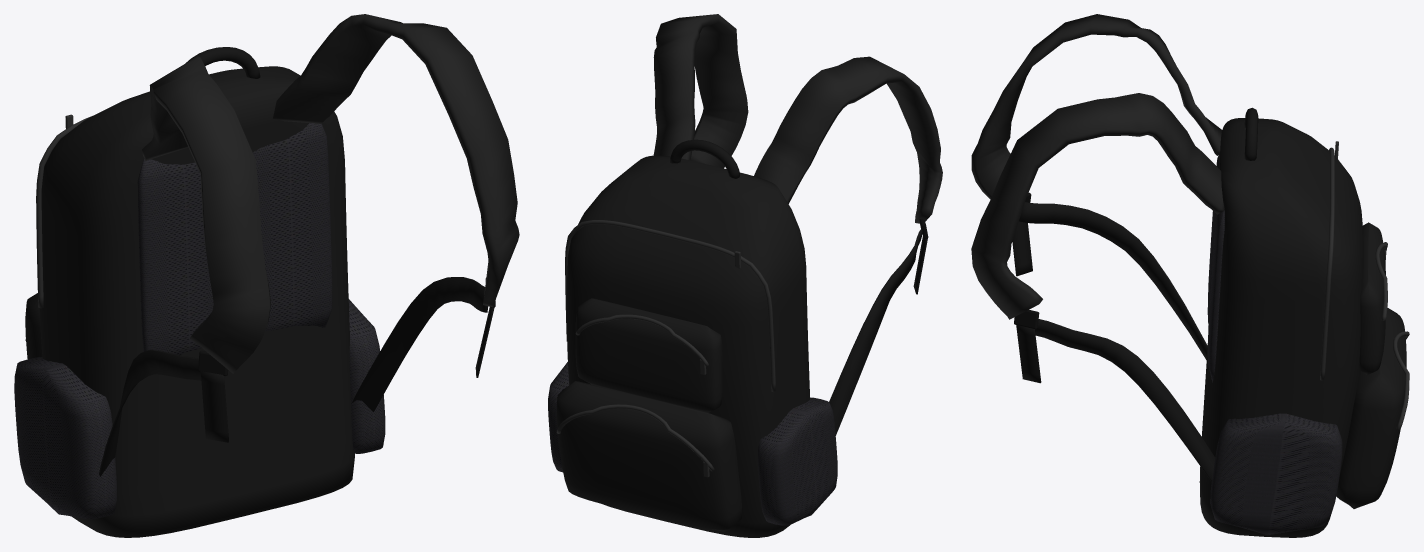
The model's file is HH-BP01-PACK.glb.
The picture shows the model from 3 angles, left to right: view 1: azimuth 30°, elevation 25°; view 2: azimuth 150°, elevation 25°; view 3: azimuth 270°, elevation 25°; orthographic projection. The views are drawn at different scales.
Visible parts, largest first — view 1: HH-BP01-PACK.001, HH-BP01-PACK_Straps.001; view 2: HH-BP01-PACK.001, HH-BP01-PACK_Straps.001; view 3: HH-BP01-PACK.001, HH-BP01-PACK_Straps.001.
Part boxes in pixels (x1=…): HH-BP01-PACK.001: x1=14, y1=47, x2=385, y2=537; HH-BP01-PACK_Straps.001: x1=99, y1=14, x2=519, y2=476; HH-BP01-PACK.001: x1=548, y1=139, x2=837, y2=537; HH-BP01-PACK_Straps.001: x1=653, y1=14, x2=942, y2=435; HH-BP01-PACK.001: x1=1199, y1=107, x2=1409, y2=537; HH-BP01-PACK_Straps.001: x1=971, y1=14, x2=1224, y2=482.
Bounding box in the file's own units: 0.3735 × 0.585 × 0.5409.
Materials: 3 (3 with a texture image).
